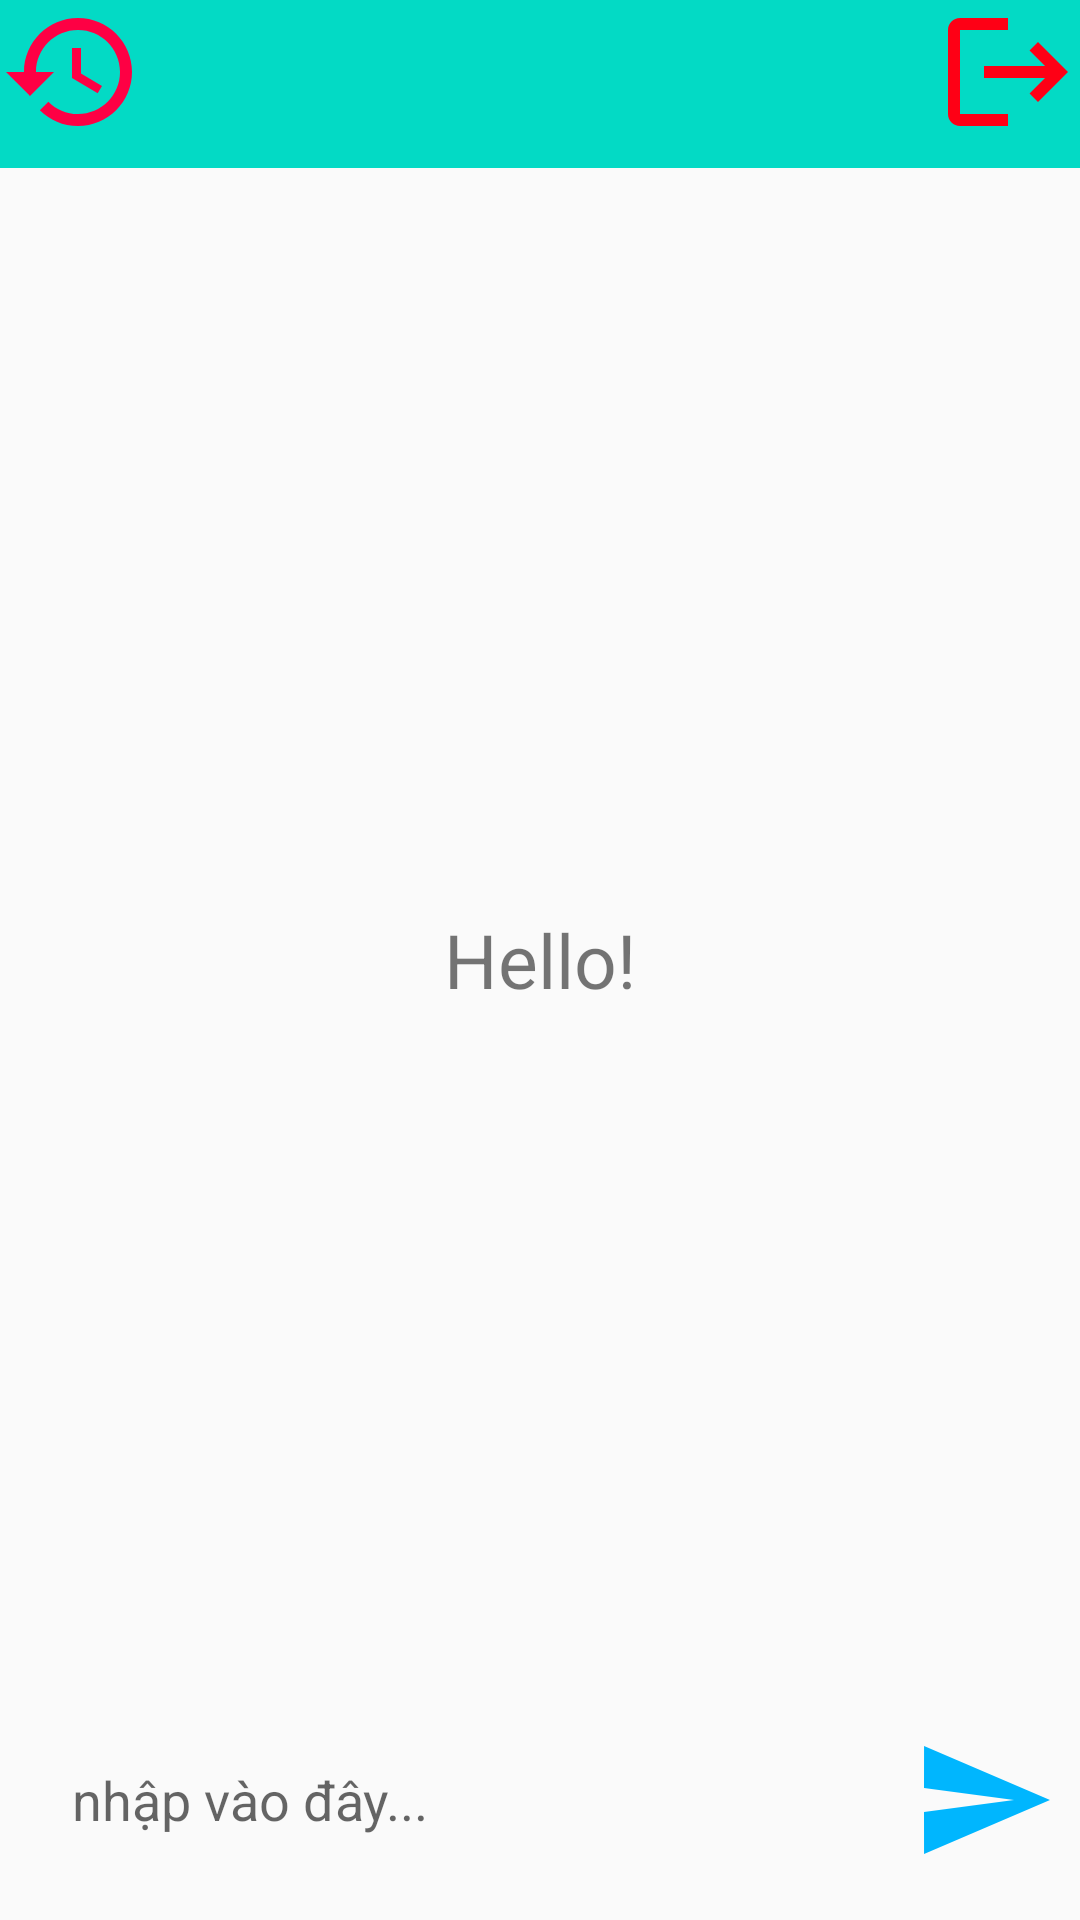

Where icons sit on this 1080px×1920px app screen, as (x1, y1, x2, y2):
history: (6, 18, 132, 126)
send: (924, 1746, 1050, 1854)
